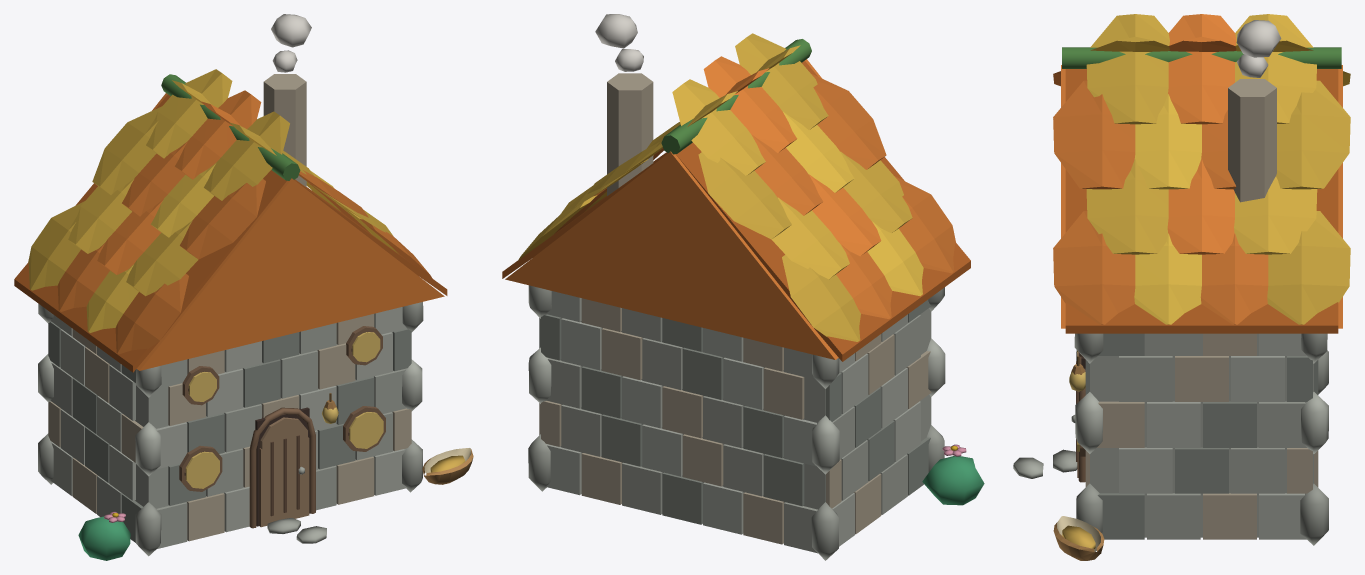
The model's file is house_stone_b.glb.
3 renders of one model, left to right at view 1: azimuth 30°, elevation 25°; view 2: azimuth 150°, elevation 25°; view 3: azimuth 270°, elevation 25°, orthographic. The views are drawn at different scales.
Visible parts, largest first — view 1: body, body_nl, body__far; view 2: body, body_nl, body__far; view 3: body_nl, body, body__far.
Boxes of the visible parts, x1,y1,x2,y2 form: body: (38,302,473,556); body_nl: (14,14,447,560); body__far: (135,74,444,526); body: (528,285,945,560); body_nl: (502,14,984,505); body__far: (505,59,931,509); body_nl: (1053,14,1350,333); body: (1013,333,1328,560); body__far: (1061,65,1342,537).
Bounding box in the file's own units: 3.5 × 3.81 × 2.33.
